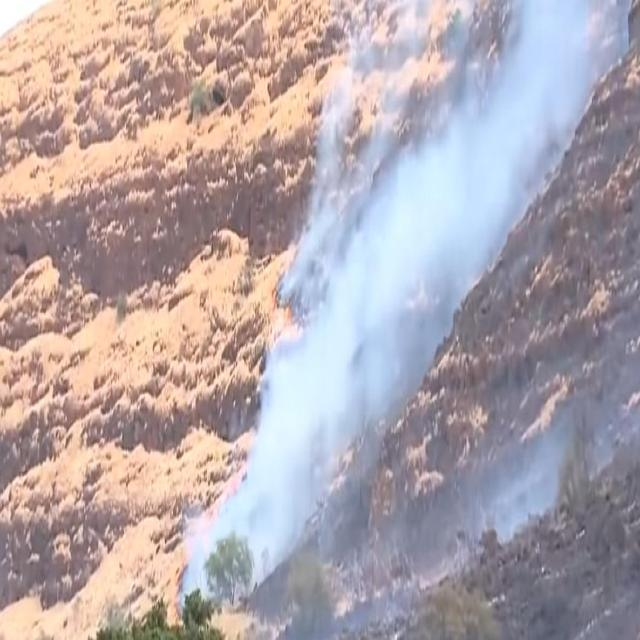Smoke: (320, 66, 450, 360), (178, 365, 334, 592), (462, 8, 610, 208), (468, 415, 566, 528)
